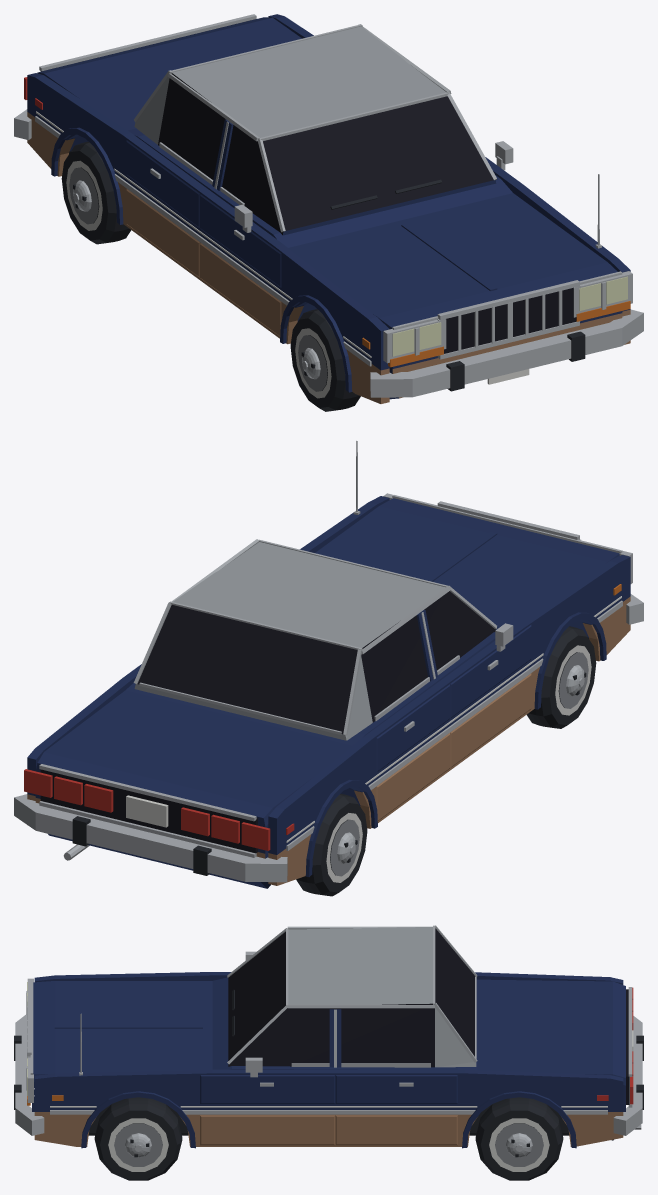
The model's file is car_sedan.glb.
3 views of the same model, one above another, from view 1: azimuth 30°, elevation 25°; view 2: azimuth 150°, elevation 25°; view 3: azimuth 270°, elevation 25° (orthographic). The views are drawn at different scales.
Visible parts, largest first — view 1: boxy-sedan-70s, wheel-fl, wheel-rl; view 2: boxy-sedan-70s, wheel-rl, wheel-fl; view 3: boxy-sedan-70s, wheel-fr, wheel-rr.
Boxes of the visible parts, bbox=[...] form: boxy-sedan-70s: bbox=[14, 14, 643, 403]; wheel-fl: bbox=[290, 309, 360, 411]; wheel-rl: bbox=[61, 141, 131, 244]; boxy-sedan-70s: bbox=[14, 440, 643, 888]; wheel-rl: bbox=[296, 793, 367, 896]; wheel-fl: bbox=[527, 626, 596, 728]; boxy-sedan-70s: bbox=[14, 925, 643, 1148]; wheel-fr: bbox=[94, 1097, 182, 1180]; wheel-rr: bbox=[475, 1097, 563, 1180].
Bounding box in the file's own units: 2.07 × 1.42 × 4.88.
